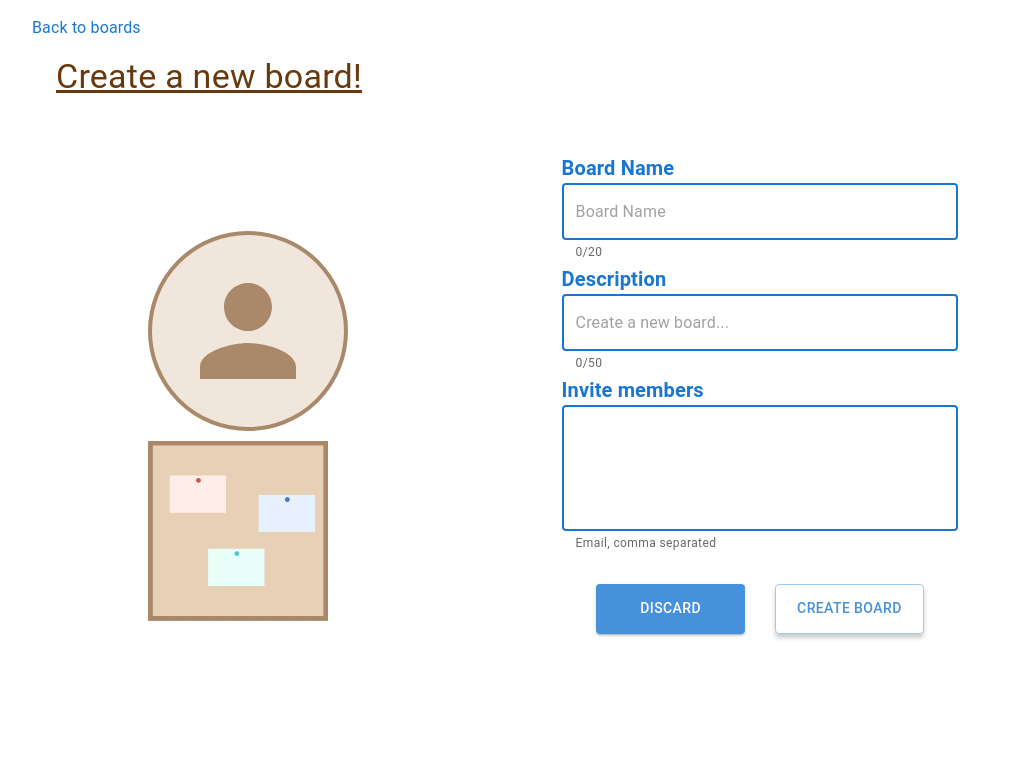
Testing <CreateNewBoard /> Component › should have name error
Click the button "Create Board". click: (849, 609)
box: [775, 584, 924, 634]
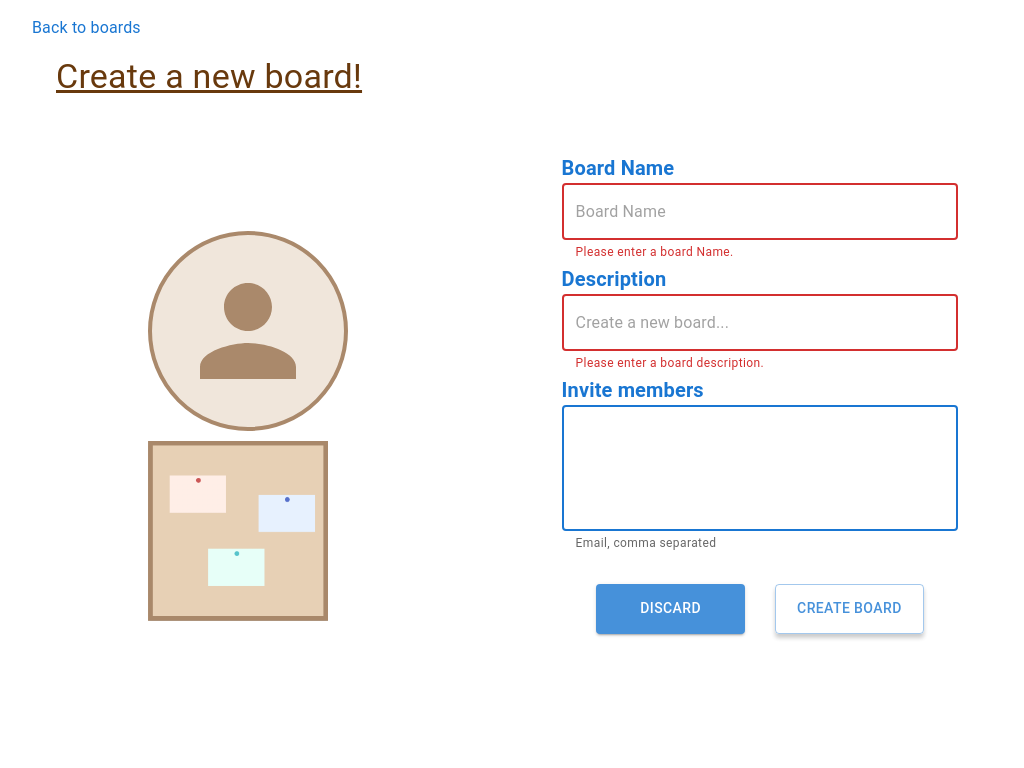
Expected: the text with id "name-text-helper-text" reads "Please enter a board Name.", [576, 245, 734, 259]
